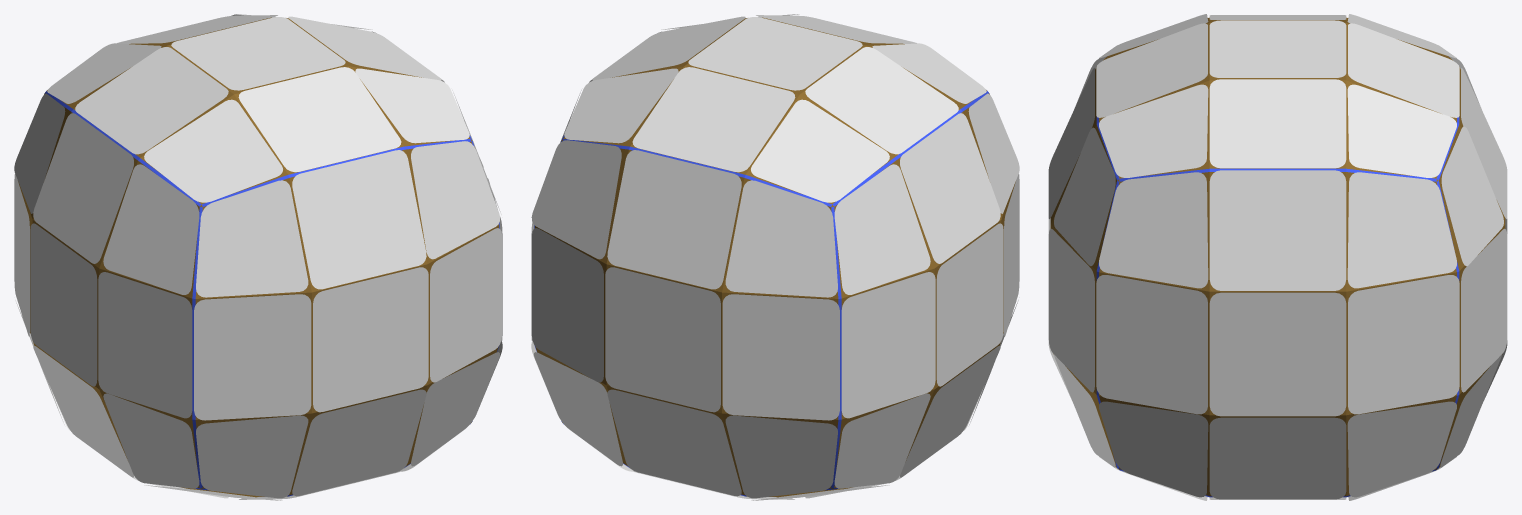
File: Cubo_sfera.fbx
3 views of the same model, side by side, from view 1: azimuth 30°, elevation 25°; view 2: azimuth 150°, elevation 25°; view 3: azimuth 270°, elevation 25° (orthographic). The views are drawn at different scales.
Visible parts, largest first — view 1: cubo-sfera.001; view 2: cubo-sfera.001; view 3: cubo-sfera.001.
Boxes of the visible parts, x1,y1,x2,y2 form: cubo-sfera.001: (14, 14, 502, 500); cubo-sfera.001: (531, 14, 1019, 500); cubo-sfera.001: (1048, 14, 1507, 500).
Bounding box in the file's own units: 198 × 198 × 198.
